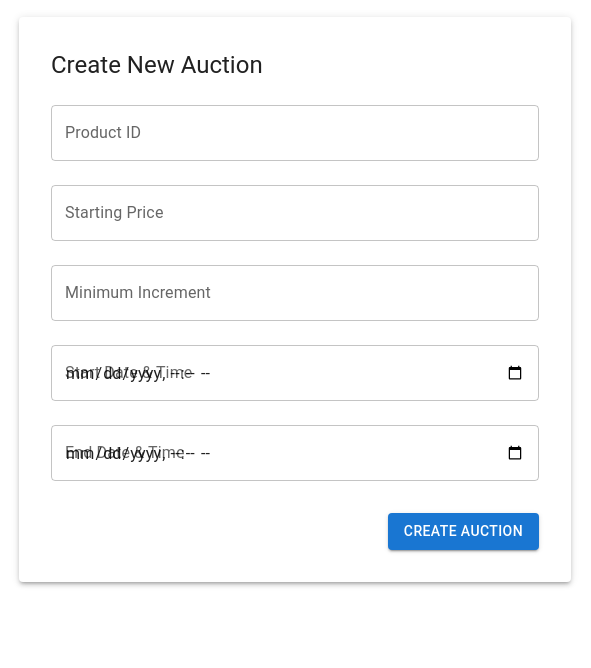
Test: CreateAuction Component › shows API error message when creation fails
Type "5" into the field labelled "Product ID" at coordinates (295, 133), box [51,105,539,161]
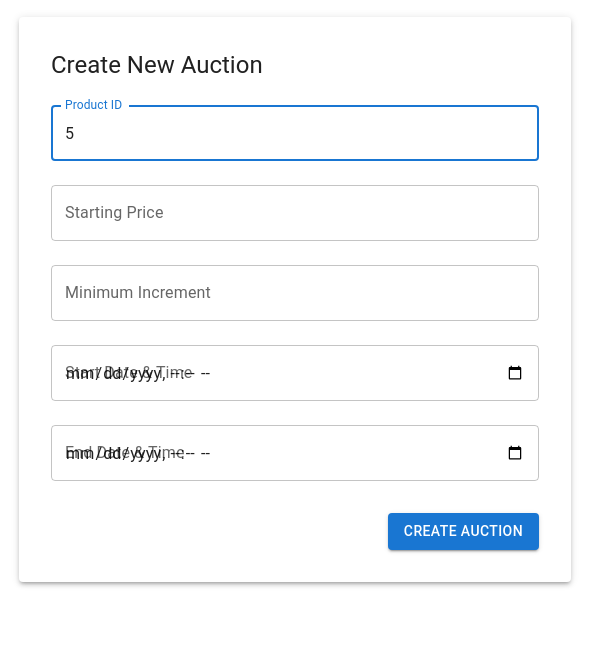
Type "200" into the number field labelled "Starting Price" at coordinates (295, 213), box [51,185,539,241]
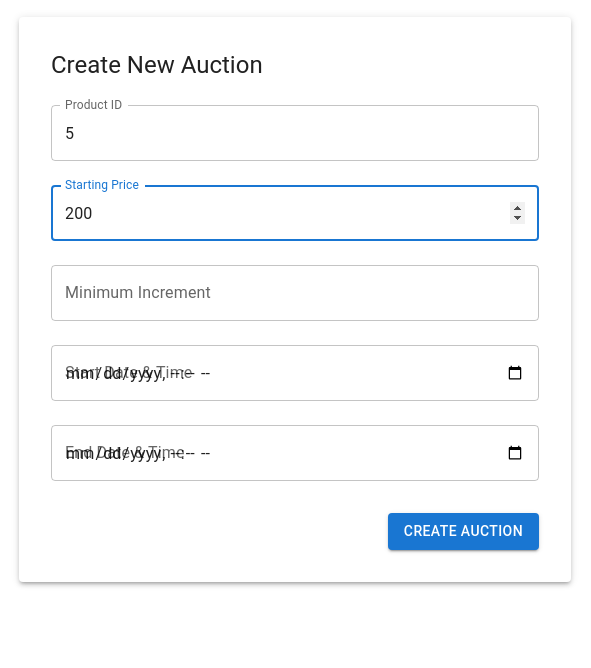
Type "20" into the number field labelled "Minimum Increment" at coordinates (295, 293), box [51,265,539,321]
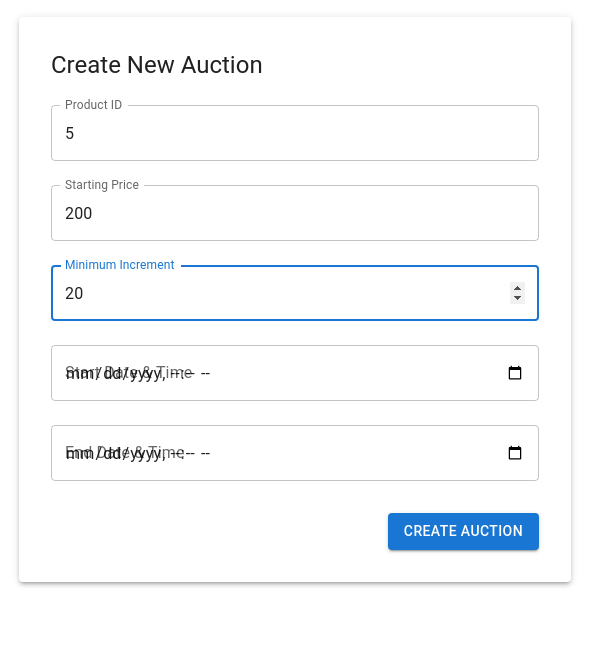
Type "2026-08-05T10:00" into the field labelled "Start Date & Time" at coordinates (295, 373), box [51,345,539,401]
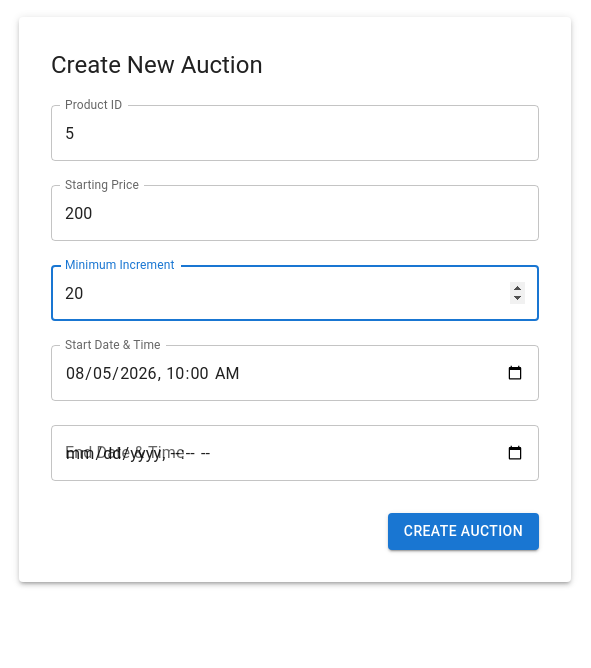
Type "2026-08-05T12:00" into the field labelled "End Date & Time" at coordinates (295, 453), box [51,425,539,481]
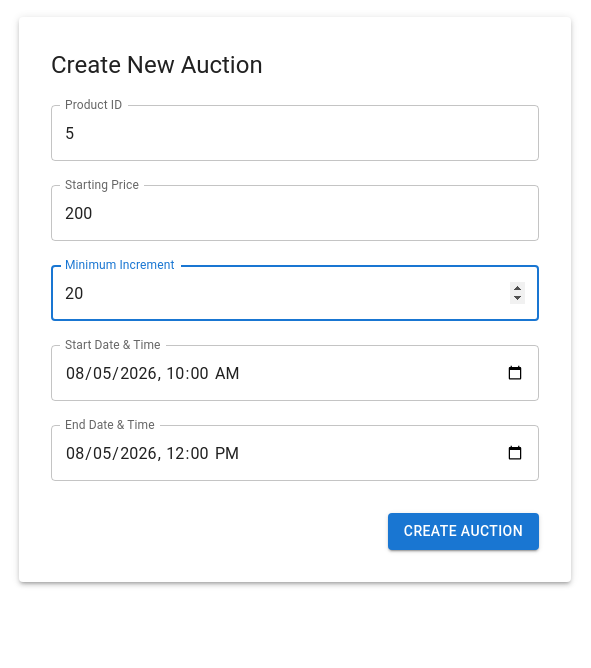
Click the button "Create Auction" at coordinates (463, 532), box [388,513,539,550]
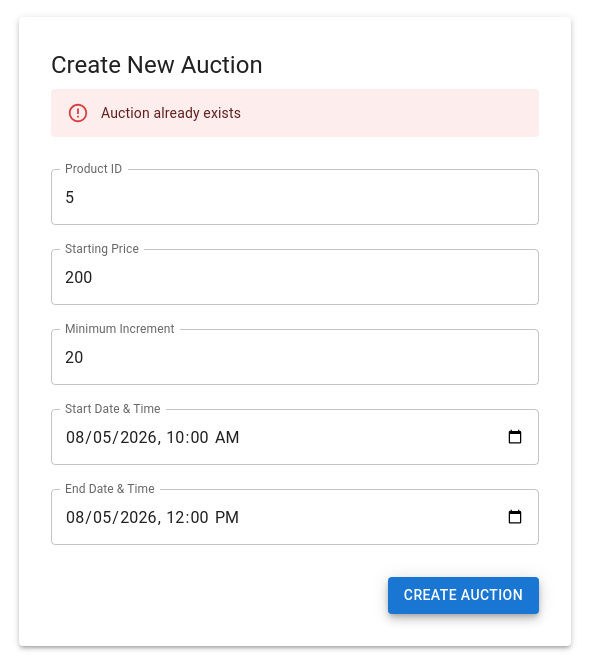
Result: the text "Auction already exists" is shown at [101,105,241,121]
